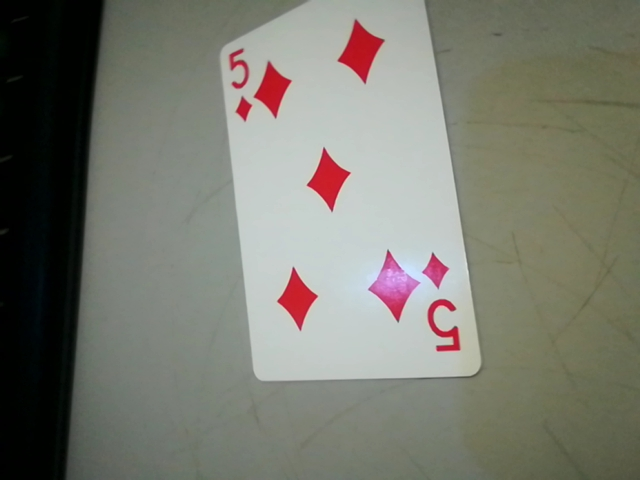fk 5: (406, 241, 468, 364)
